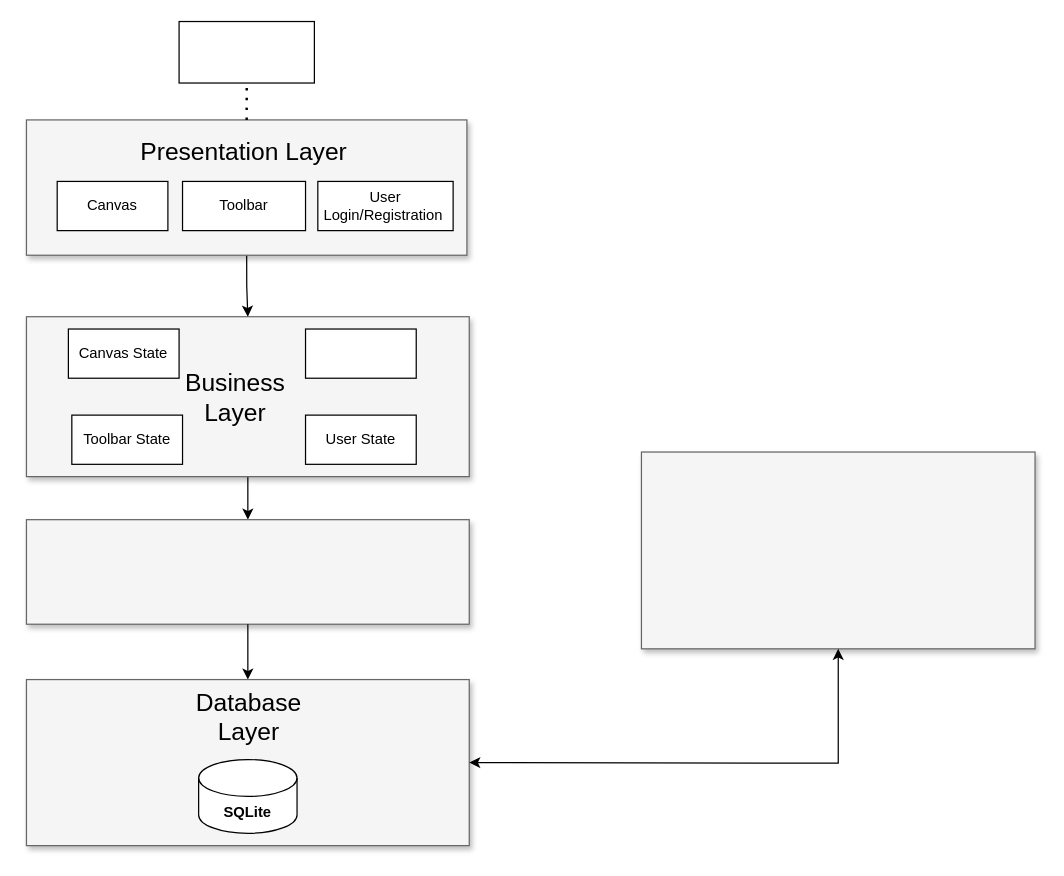
Image size: 1064x876. Some labels were removed from this diagram. The shapes that lost their labels are listed below. From the top down, each one's centre as x and y in pixels, then its label:
At pixel 246 51: "Mobile".
At pixel 360 353: "Change Log".
At pixel 838 551: "Web Service (to integrate changes across users)".
At pixel 248 573: "Persistence Layer".
